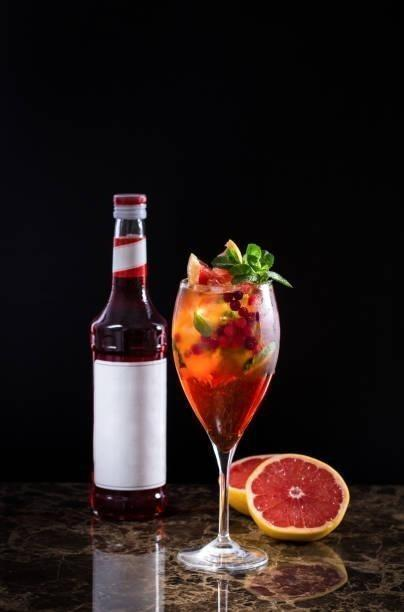bottle-glass: (87, 192, 172, 522)
glass-wine: (170, 271, 282, 573)
